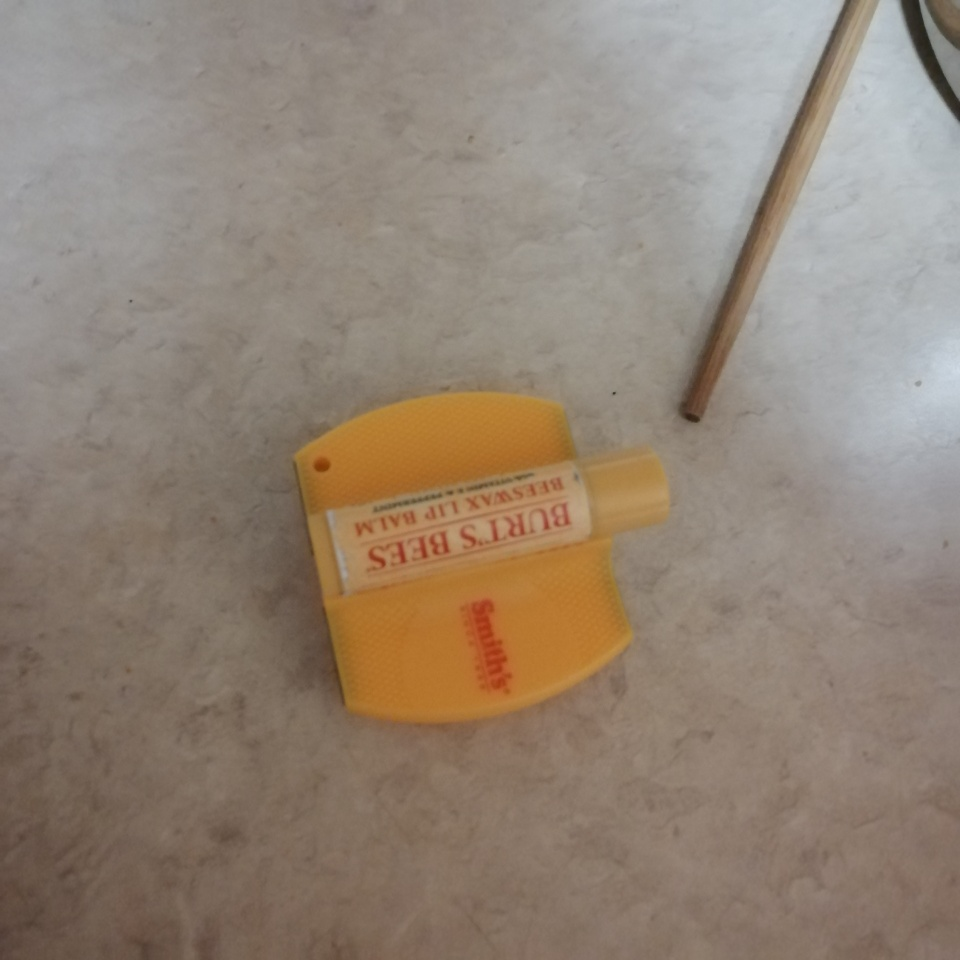chapstick: (306, 446, 671, 597)
